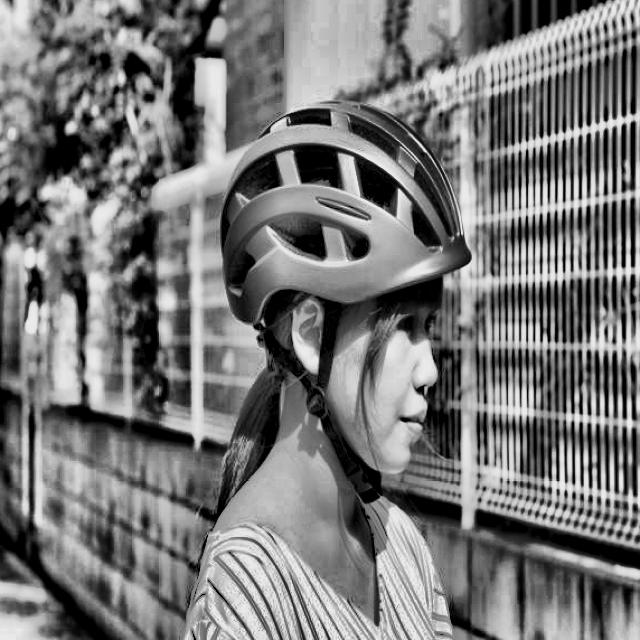Helmet: (212, 82, 477, 515)
